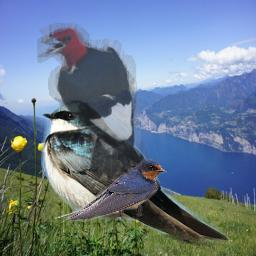Swallow: (40, 98, 230, 246), (54, 158, 167, 222)
Woodpecker: (37, 21, 150, 181)
